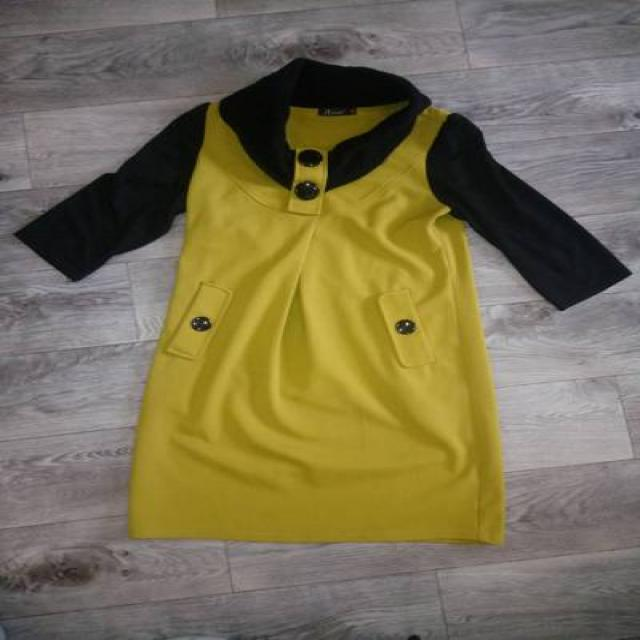Clothes -Biodegradable-: (19, 62, 630, 544)
